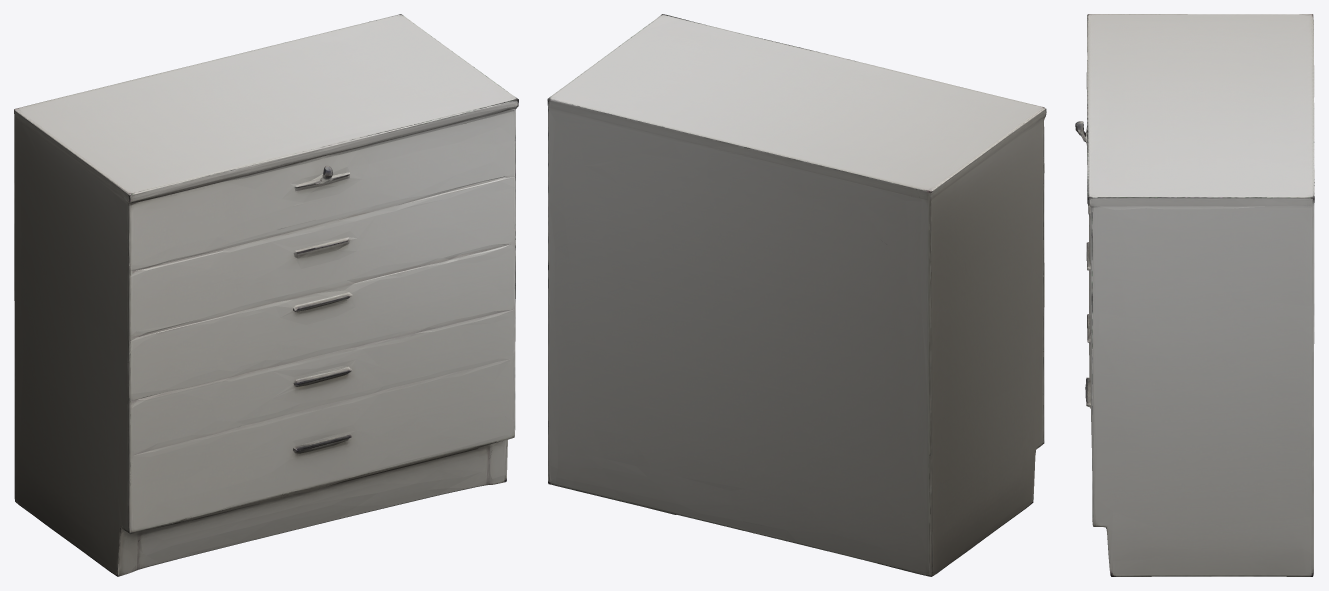
File: mw5dgc_5_drawer_chest_coffee_cappucin.glb
3 renders of one model, left to right at view 1: azimuth 30°, elevation 25°; view 2: azimuth 150°, elevation 25°; view 3: azimuth 270°, elevation 25°, orthographic. The views are drawn at different scales.
Visible parts, largest first — view 1: world; view 2: world; view 3: world.
Part boxes in pixels (x1,y1,x2,y2): world: (14,14,518,576); world: (547,14,1046,576); world: (1075,14,1314,576).
Size of the model in its own units: 0.493 by 0.4746 by 0.2706.
Materials: 1 (1 with a texture image).
